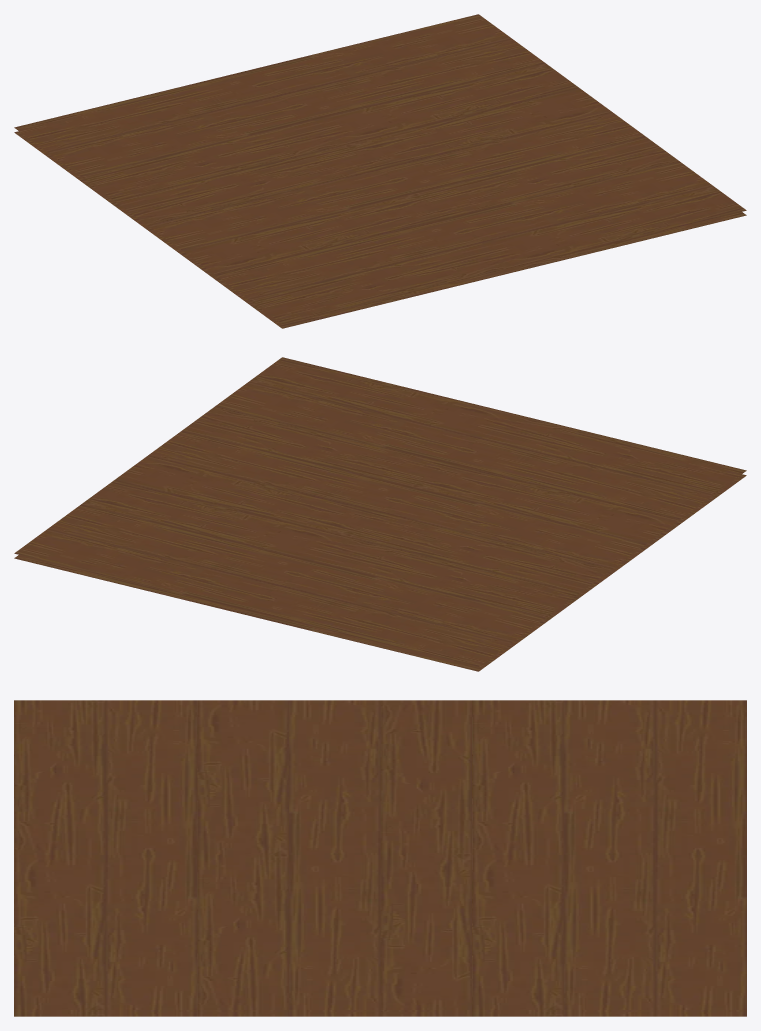
Rendered from mv_floor_wood_dark.glb.
The picture shows the model from 3 angles, top to bottom: view 1: azimuth 30°, elevation 25°; view 2: azimuth 150°, elevation 25°; view 3: azimuth 270°, elevation 25°; orthographic projection. The views are drawn at different scales.
Visible parts, largest first — view 1: Floor_WoodDark; view 2: Floor_WoodDark; view 3: Floor_WoodDark.
Boxes of the visible parts, bbox=[...] form: Floor_WoodDark: bbox=[14, 14, 746, 328]; Floor_WoodDark: bbox=[14, 357, 746, 671]; Floor_WoodDark: bbox=[14, 700, 746, 1016].
Bounding box in the file's own units: 2 × 0.02 × 2.
Materials: 1 (1 with a texture image).
